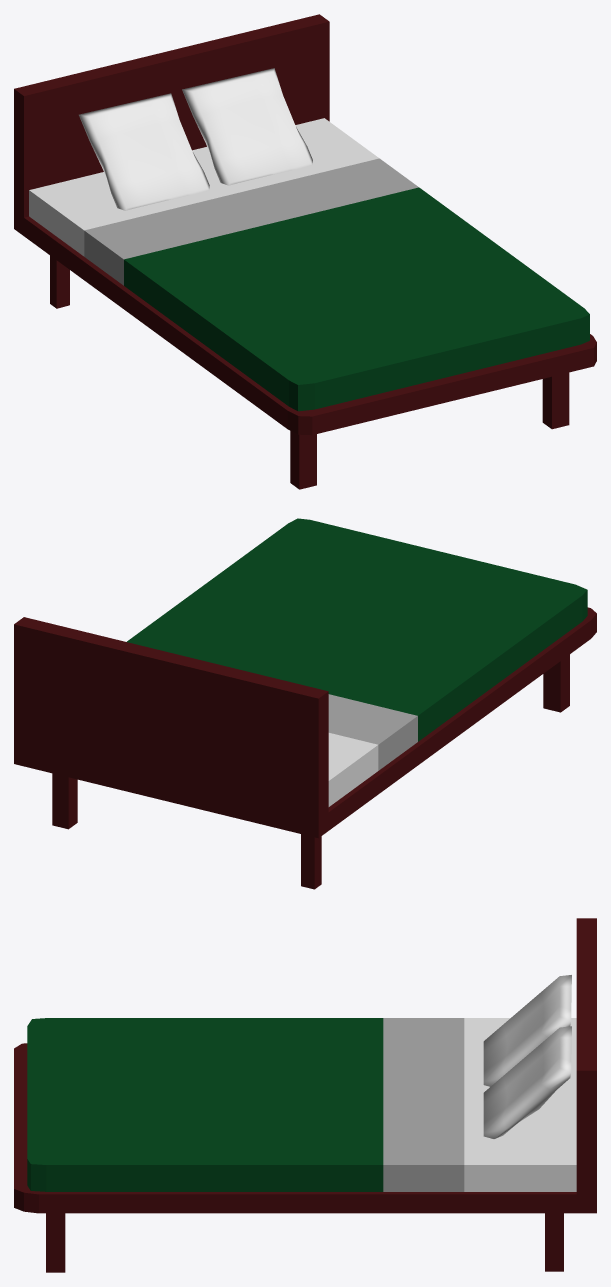
File: Cama FBX.fbx
3 views of the same model, one above another, from view 1: azimuth 30°, elevation 25°; view 2: azimuth 150°, elevation 25°; view 3: azimuth 270°, elevation 25° (orthographic). The views are drawn at different scales.
Visible parts, largest first — view 1: Cube.002, Cube, Cube.003, Cube.004, Cube.005, Cube.001; view 2: Cube, Cube.002, Cube.003, Cube.001; view 3: Cube.002, Cube, Cube.003, Cube.001, Cube.005, Cube.004.
Part boxes in pixels (bbox=[...]): Cube.002: bbox=[124, 187, 589, 411]; Cube: bbox=[14, 14, 596, 489]; Cube.003: bbox=[84, 158, 418, 285]; Cube.004: bbox=[79, 93, 209, 210]; Cube.005: bbox=[182, 68, 312, 185]; Cube.001: bbox=[29, 118, 379, 256]; Cube: bbox=[14, 607, 596, 889]; Cube.002: bbox=[127, 518, 587, 741]; Cube.003: bbox=[328, 694, 417, 770]; Cube.001: bbox=[328, 733, 378, 806]; Cube.002: bbox=[27, 1018, 383, 1191]; Cube: bbox=[14, 918, 596, 1272]; Cube.003: bbox=[383, 1018, 464, 1191]; Cube.001: bbox=[464, 1018, 576, 1191]; Cube.005: bbox=[483, 1026, 571, 1138]; Cube.004: bbox=[483, 975, 571, 1086].
Bounding box in the file's own units: 449 × 292 × 727.
